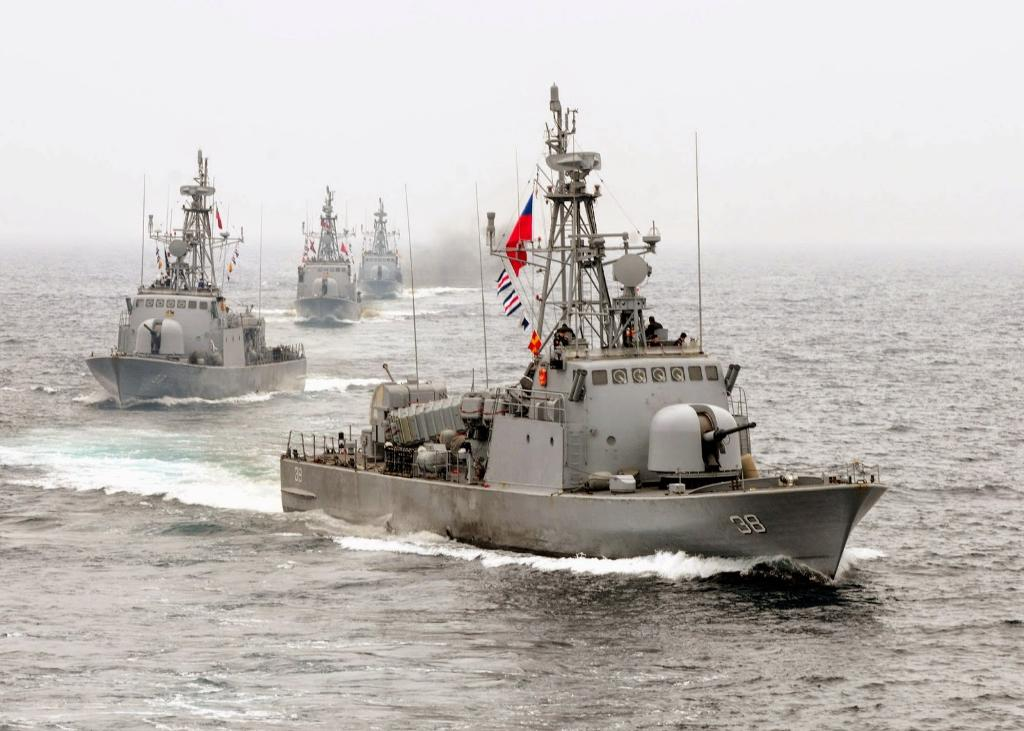Warship: (292, 81, 886, 588), (83, 166, 315, 390), (292, 178, 356, 331), (348, 190, 408, 300)
